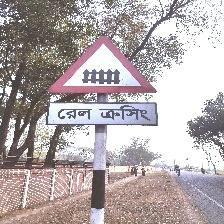Rail-crossing: (45, 36, 159, 129)
